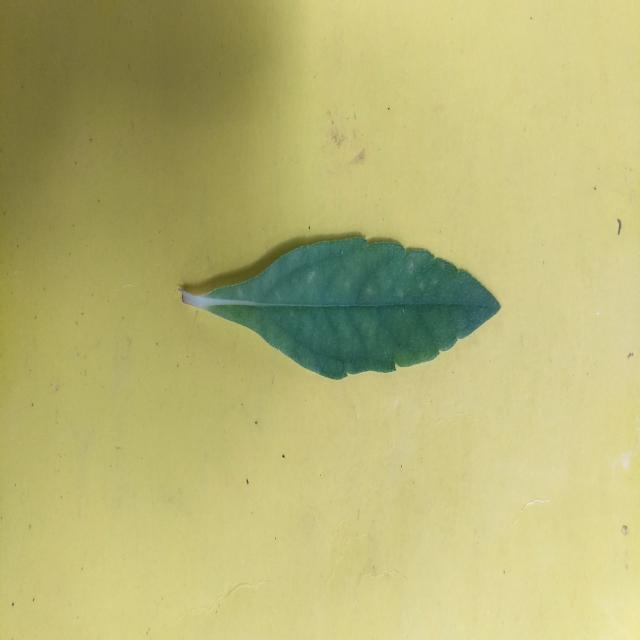bringaraja: (181, 238, 499, 380)
